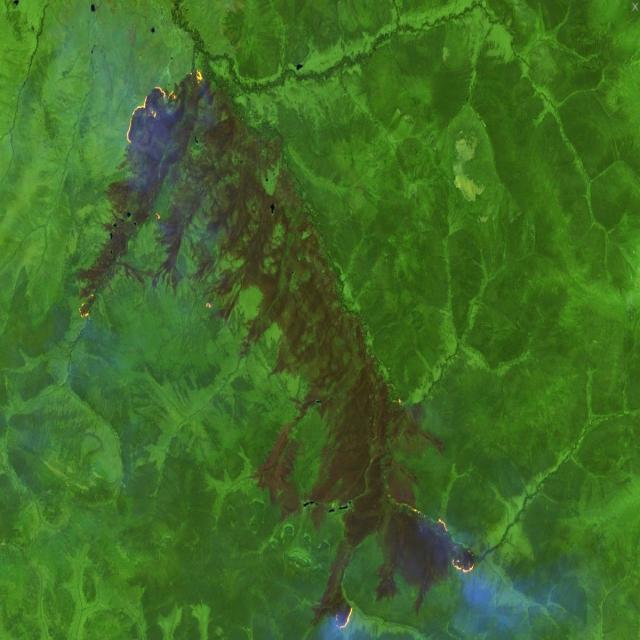fire: (123, 62, 206, 147), (404, 500, 477, 577), (330, 594, 360, 640), (72, 284, 101, 324)
